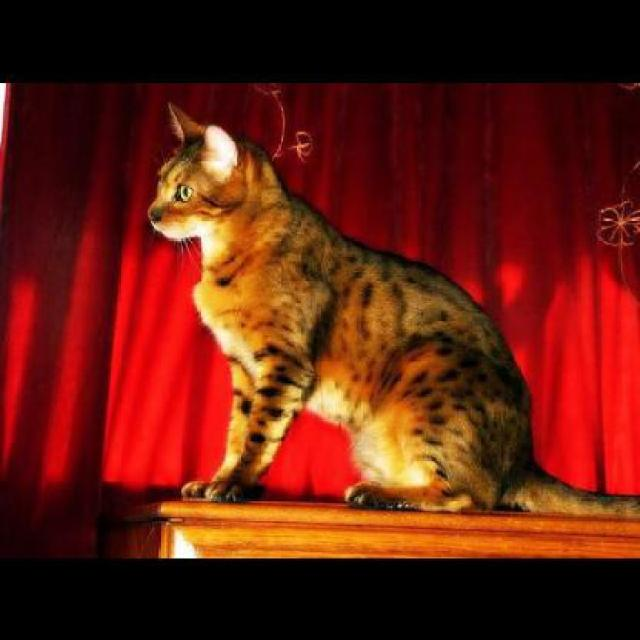unauthorized: (146, 99, 639, 518)
